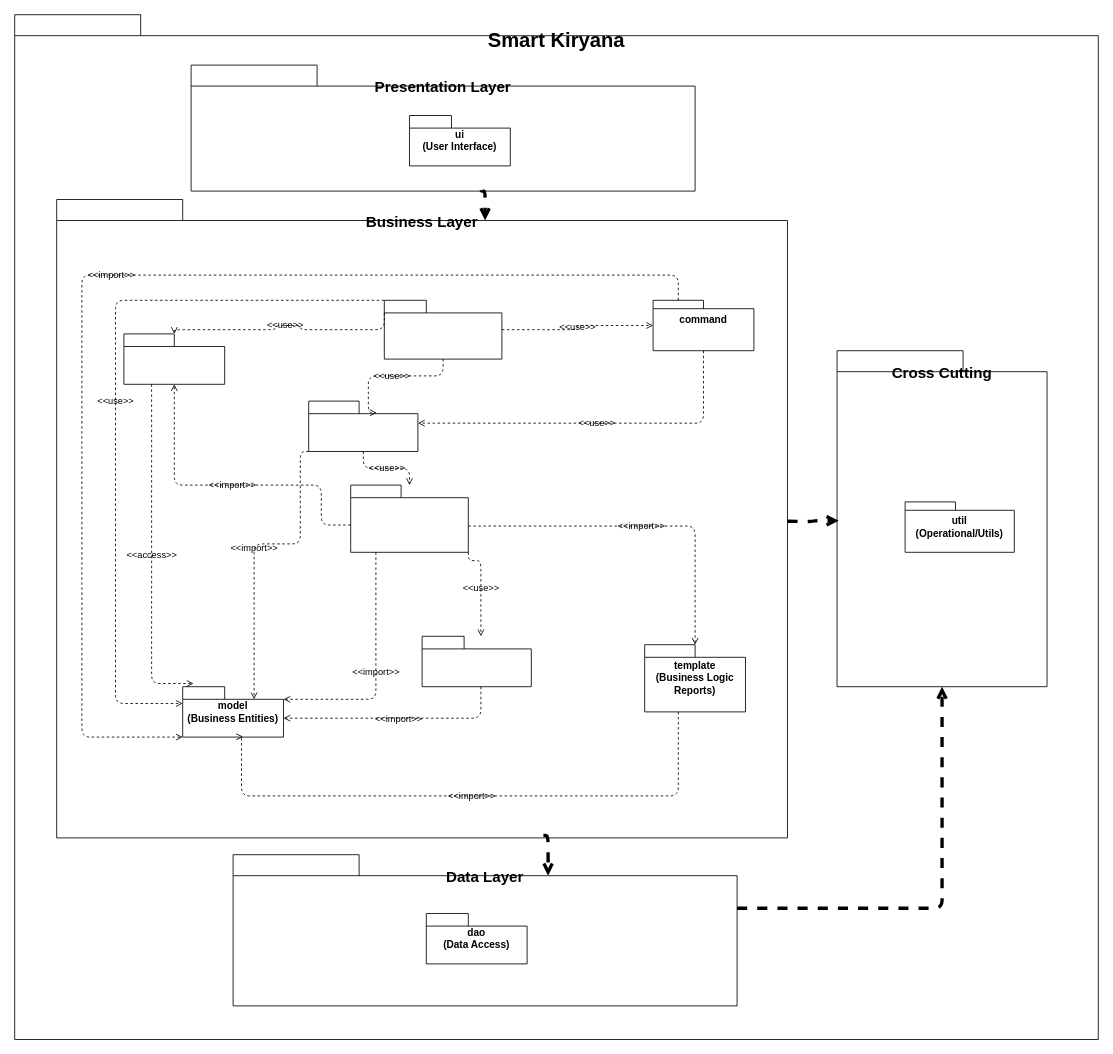
This 1113x1054 diagram has some shape labels left out. Here are the shapes that lost their labels. From the top down, the centre of each, then its label:
At [442,329]: "facade (Application Facade)".
At [174,358]: "observer".
At [363,426]: "controller (Business Workflow)".
At [409,518]: "service (Business Components and logic)".
At [476,661]: "factory".
